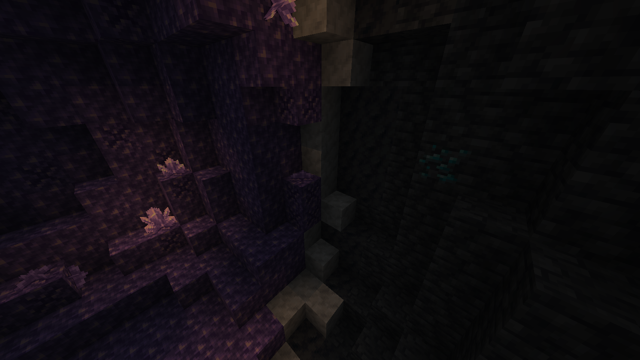diamond: (416, 140, 472, 194)
